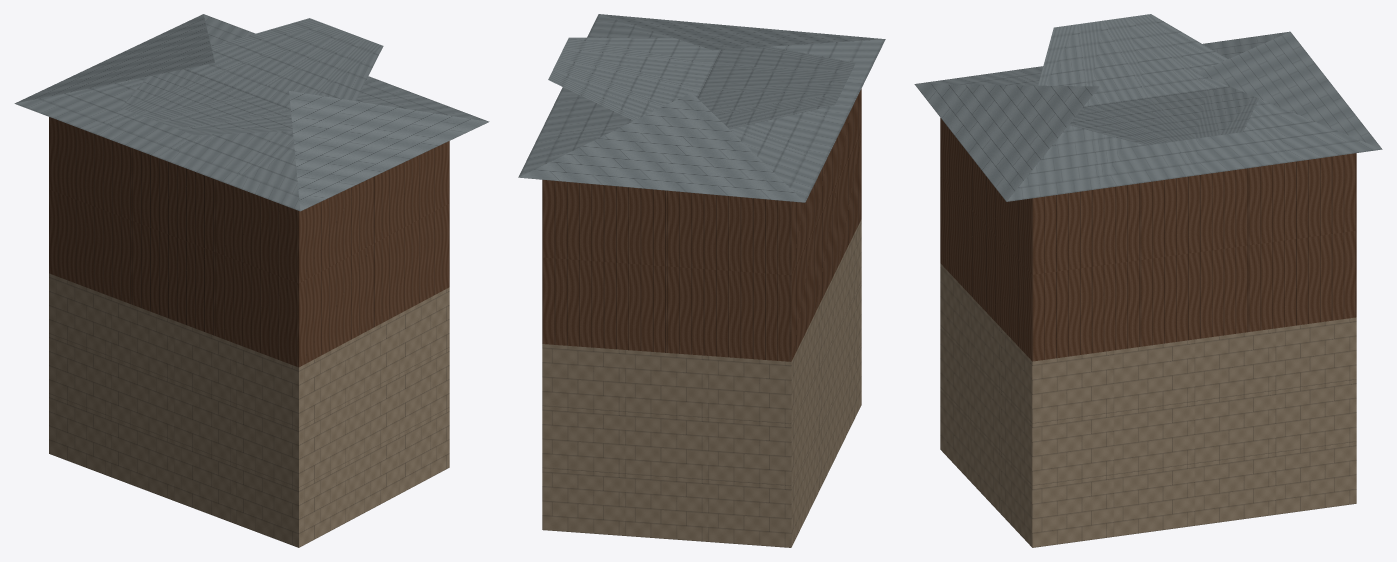
The model's file is bld_c2_28_520.gltf.
3 renders of one model, left to right at view 1: azimuth 30°, elevation 25°; view 2: azimuth 150°, elevation 25°; view 3: azimuth 270°, elevation 25°, orthographic. The views are drawn at different scales.
Visible parts, largest first — view 1: bld_c2_28_520; view 2: bld_c2_28_520; view 3: bld_c2_28_520.
Part boxes in pixels (left/top/right/bottom): bld_c2_28_520: left=14, top=14, right=489, bottom=547; bld_c2_28_520: left=518, top=14, right=885, bottom=547; bld_c2_28_520: left=914, top=14, right=1382, bottom=547.
Size of the model in its own units: 9.85 by 10.7 by 11.44.
Materials: 3 (3 with a texture image).
